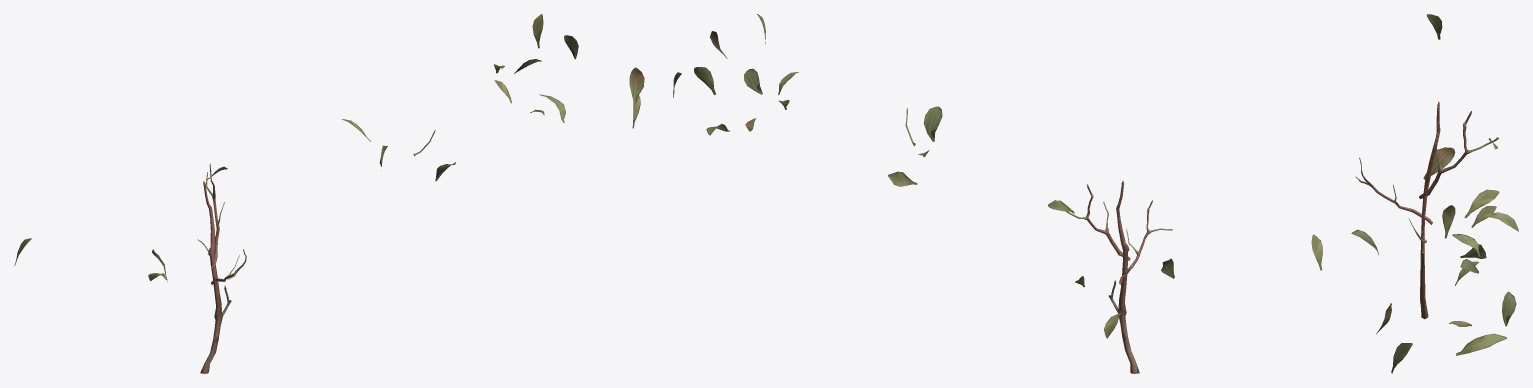
The model's file is shrub_leafy.gltf.
The picture shows the model from 3 angles, left to right: view 1: azimuth 30°, elevation 25°; view 2: azimuth 150°, elevation 25°; view 3: azimuth 270°, elevation 25°; orthographic projection. The views are drawn at different scales.
Parts seen in each view (by area): view 1: shrub_leafy; view 2: shrub_leafy; view 3: shrub_leafy.
Part boxes in pixels (left/top/right/bottom): shrub_leafy: left=14, top=14, right=644, bottom=373; shrub_leafy: left=673, top=14, right=1322, bottom=373; shrub_leafy: left=1351, top=14, right=1518, bottom=373.
Size of the model in its own units: 1.2 by 0.4971 by 0.243.
Materials: 1 (1 with a texture image).
